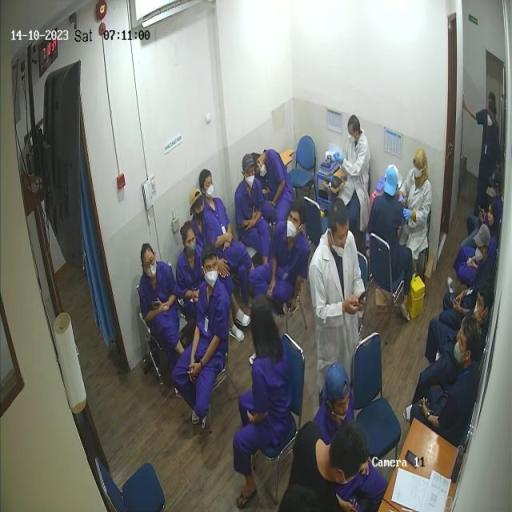person: (235, 296, 294, 510), (310, 197, 367, 411), (312, 365, 392, 511), (173, 246, 231, 429), (417, 281, 494, 416), (411, 315, 483, 457), (189, 189, 252, 343), (199, 170, 257, 315), (140, 243, 187, 401), (369, 167, 414, 321), (292, 421, 369, 510), (252, 201, 311, 312), (441, 224, 492, 335), (335, 116, 372, 251), (400, 150, 433, 299), (463, 92, 501, 218), (237, 154, 274, 268), (455, 201, 500, 282), (254, 151, 295, 230), (463, 170, 504, 249), (178, 220, 205, 320)
